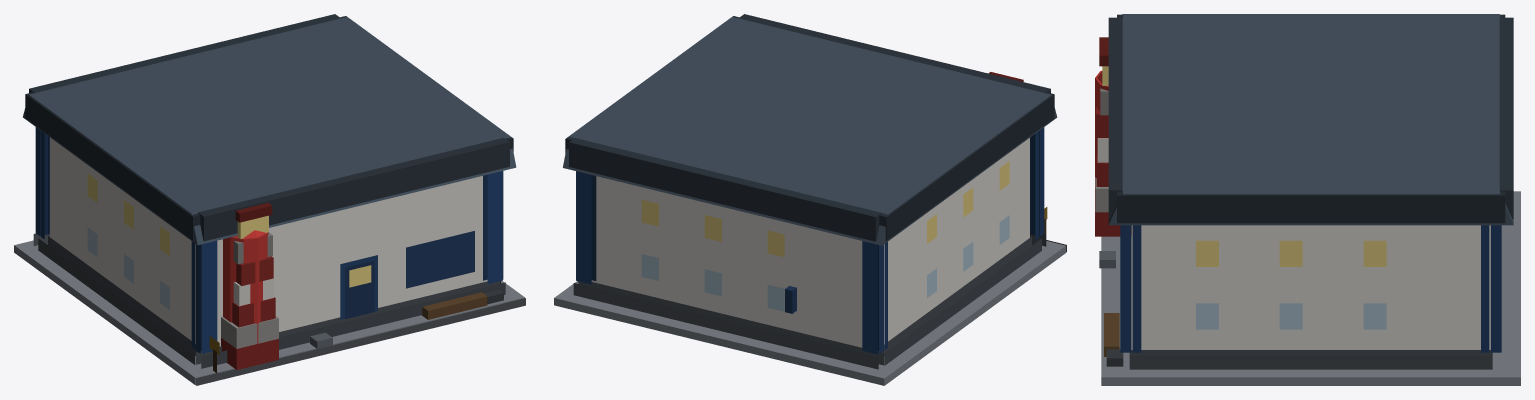
File: MeerkatLookoutSil.fbx
3 renders of one model, left to right at view 1: azimuth 30°, elevation 25°; view 2: azimuth 150°, elevation 25°; view 3: azimuth 270°, elevation 25°, orthographic. The views are drawn at different scales.
Parts seen in each view (by area): view 1: LH_S_All; view 2: LH_S_All; view 3: LH_S_All.
Boxes of the visible parts, box(x1,y1,x2,y2) form: LH_S_All: box(14, 14, 525, 385); LH_S_All: box(554, 14, 1066, 385); LH_S_All: box(1095, 14, 1520, 385).
Size of the model in its own units: 42.04 by 19.9 by 40.64.
